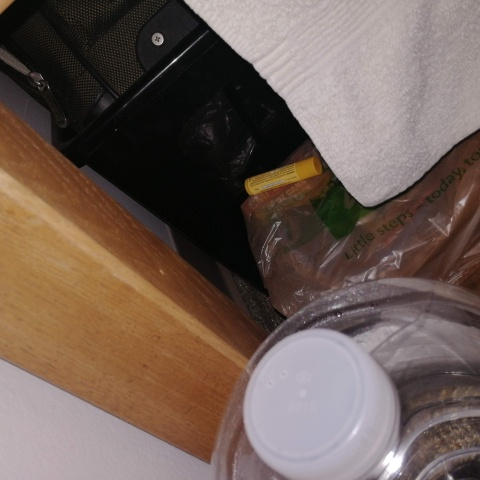chapstick: (244, 154, 323, 198)
